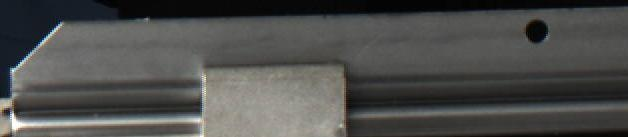cut: (5, 15, 176, 137)
holes: (523, 17, 551, 43)
